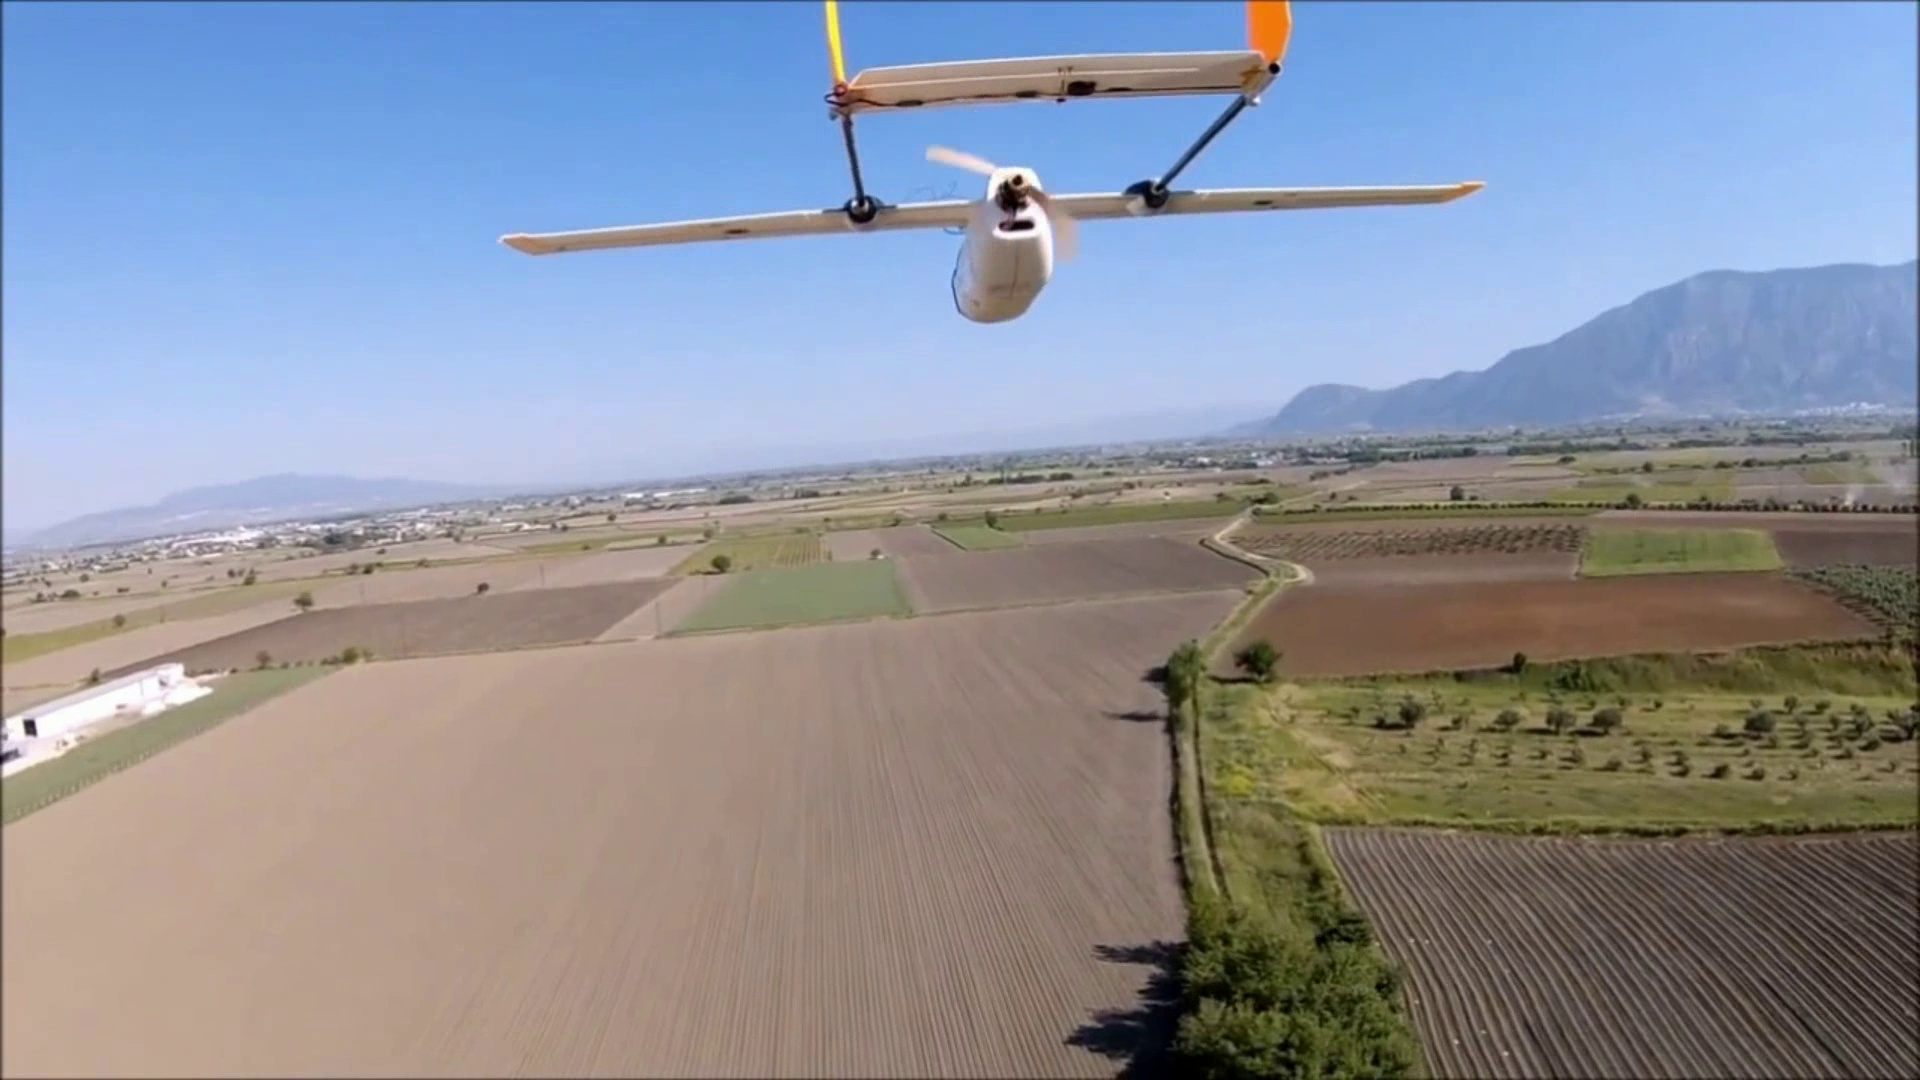airplane: (498, 4, 1485, 325)
